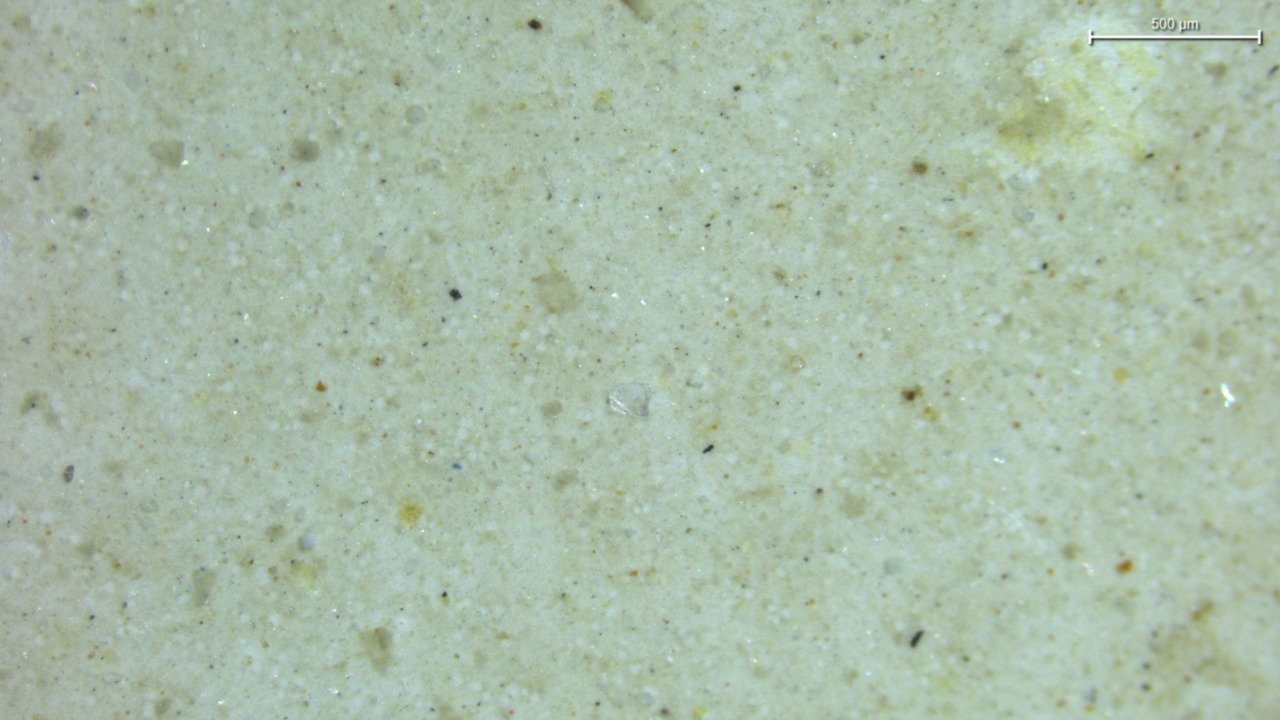microplastic_fragment: (608, 383, 652, 417)
